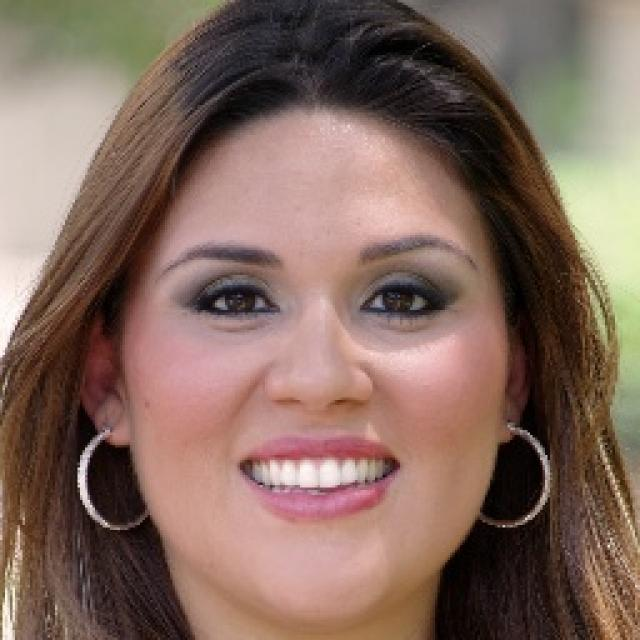earlobe: (75, 295, 131, 449), (498, 300, 534, 444)
